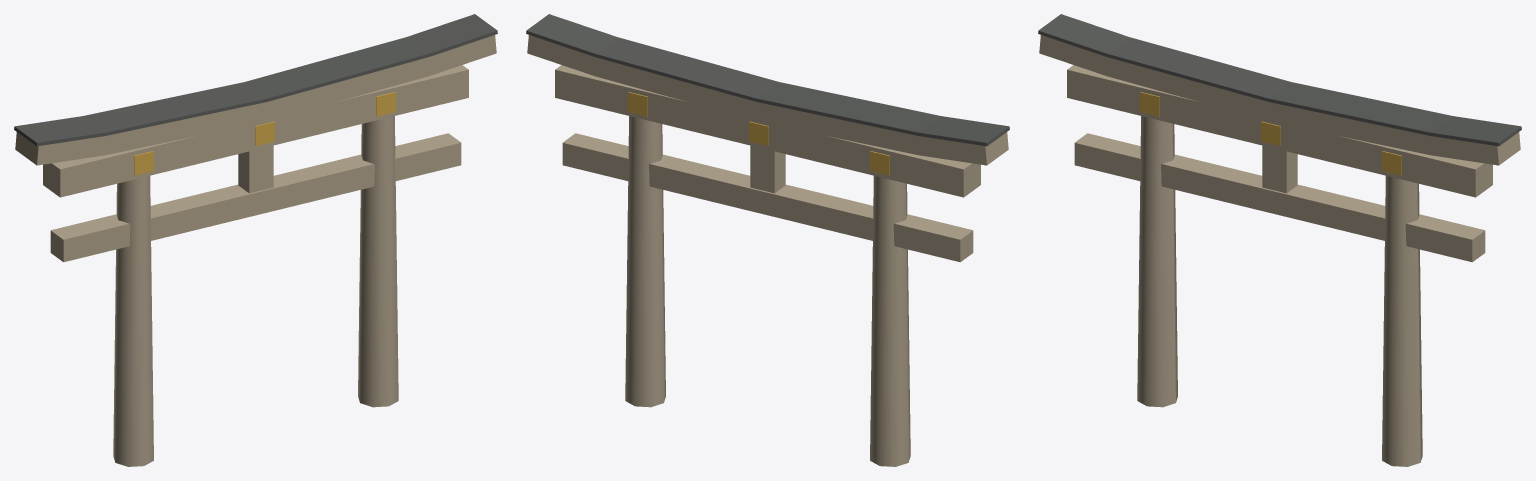
The model's file is tokyo-meiji-jingu-otorii.glb.
3 renders of one model, left to right at view 1: azimuth 30°, elevation 25°; view 2: azimuth 150°, elevation 25°; view 3: azimuth 330°, elevation 25°, orthographic.
Parts seen in each view (by area): view 1: Meiji Jingu Ōtorii; view 2: Meiji Jingu Ōtorii; view 3: Meiji Jingu Ōtorii.
Boxes of the visible parts, box(x1,y1,x2,y2) form: Meiji Jingu Ōtorii: box(14, 14, 497, 466); Meiji Jingu Ōtorii: box(526, 14, 1009, 466); Meiji Jingu Ōtorii: box(1038, 14, 1521, 466).
Bounding box in the file's own units: 17.15 × 12.44 × 1.46.
